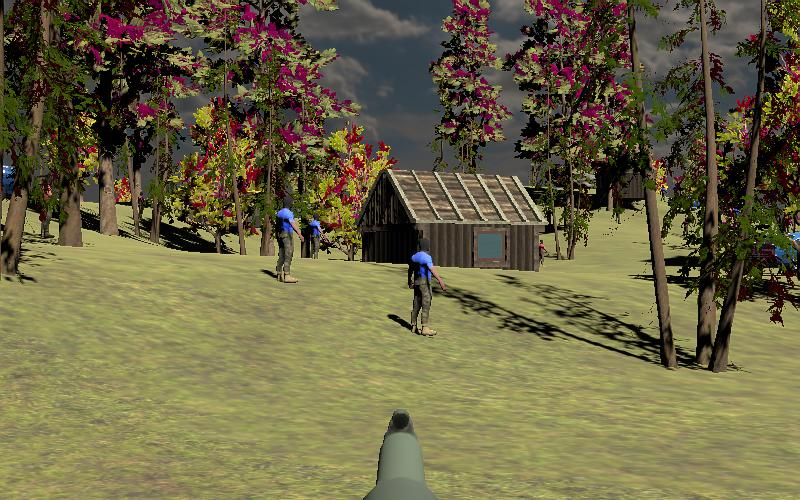House: (358, 166, 546, 270)
Human: (408, 237, 446, 337), (274, 194, 305, 283), (306, 211, 322, 260)
